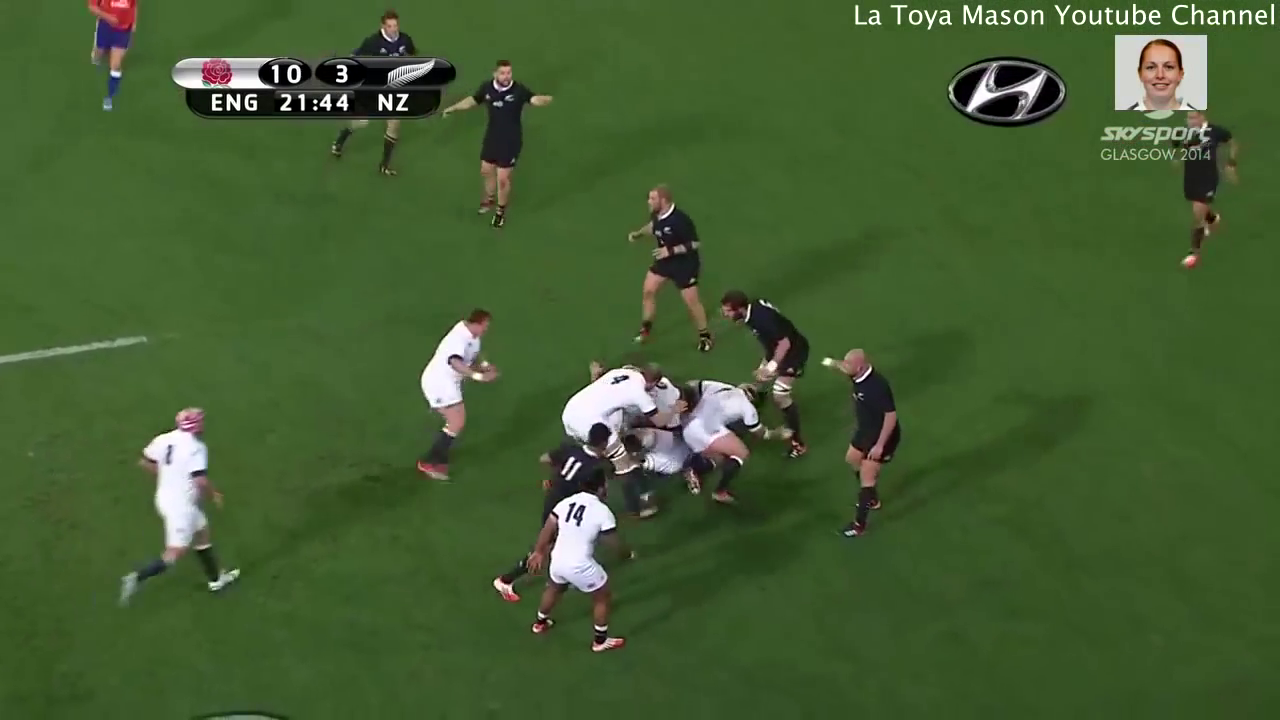player: (109, 396, 250, 612), (489, 418, 620, 608), (439, 40, 557, 234), (547, 348, 668, 521), (529, 460, 627, 655), (621, 180, 725, 352), (721, 278, 817, 463), (814, 344, 901, 548), (409, 300, 501, 491), (696, 372, 775, 508), (1178, 104, 1239, 264)
ruck: (542, 348, 795, 525)
